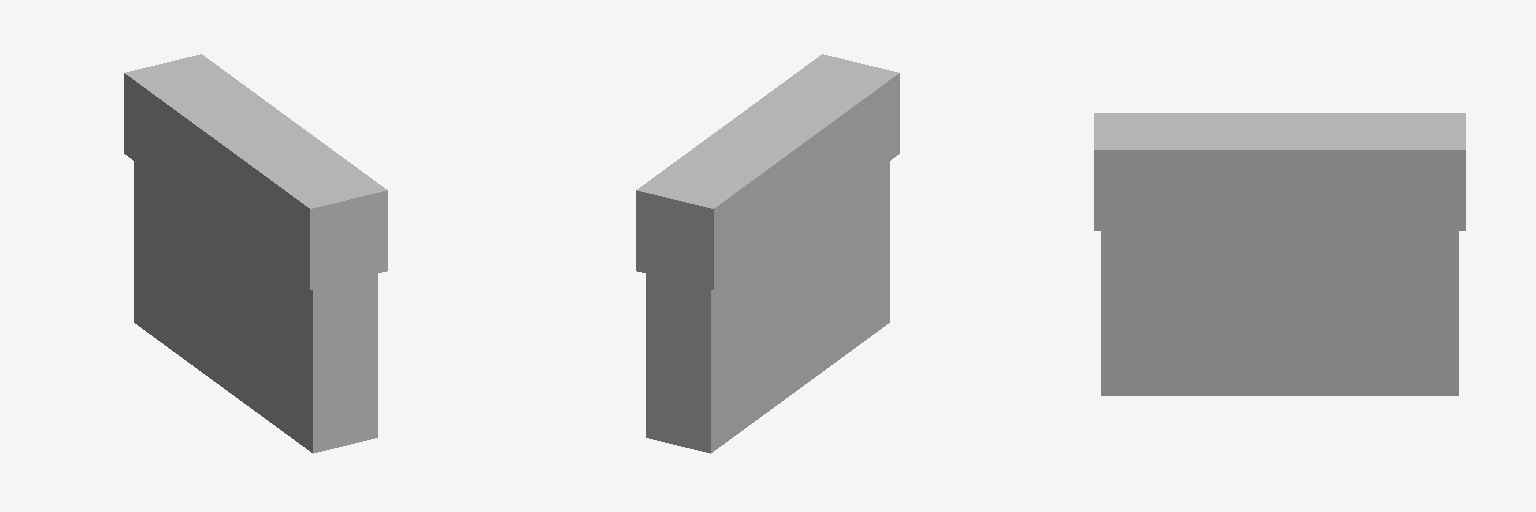
Rendered from broom_head.obj.
3 views of the same model, side by side, from view 1: azimuth 30°, elevation 25°; view 2: azimuth 150°, elevation 25°; view 3: azimuth 270°, elevation 25° (orthographic).
Parts seen in each view (by area): view 1: Cube; view 2: Cube; view 3: Cube.
Boxes of the visible parts, x1,y1,x2,y2 form: Cube: [124, 54, 387, 453]; Cube: [636, 54, 899, 453]; Cube: [1094, 113, 1465, 395].
Size of the model in its own units: 2 by 6.15 by 8.34.